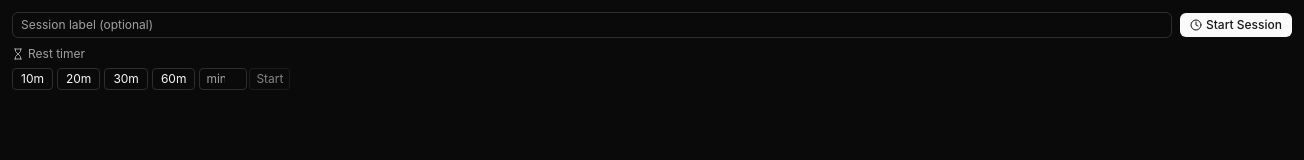
Scenario: SessionControls › error handling › displays error when startSession fails
What coordinates should you click on to do the following:
click the button "Start Session"
I would click on:
 (1236, 25)
Its box is left=1180, top=13, right=1292, bottom=37.
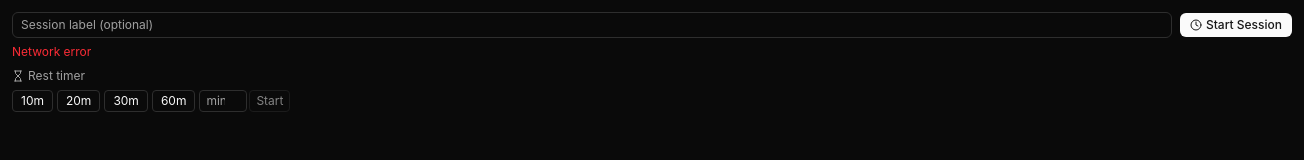
Expected: the text "Network error" is shown, left=12, top=44, right=91, bottom=59
